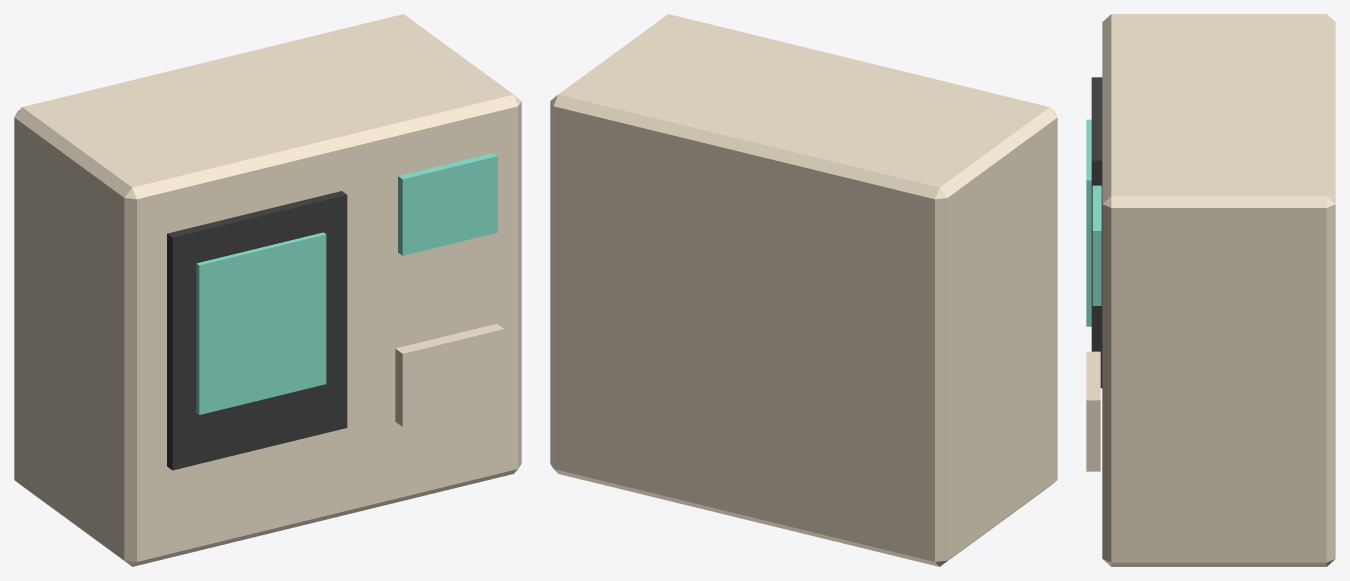
The picture shows the model from 3 angles, left to right: view 1: azimuth 30°, elevation 25°; view 2: azimuth 150°, elevation 25°; view 3: azimuth 270°, elevation 25°; orthographic projection. The views are drawn at different scales.
Visible parts, largest first — view 1: Analysis cabinet, Sample chamber, Chamber window, Sample drawer, Readout; view 2: Analysis cabinet; view 3: Analysis cabinet, Sample chamber, Sample drawer, Chamber window, Readout.
Part boxes in pixels (x1,y1,x2,y2): Analysis cabinet: (14, 14, 521, 566); Sample chamber: (167, 191, 347, 470); Chamber window: (196, 232, 326, 414); Sample drawer: (395, 323, 504, 426); Readout: (398, 152, 497, 255); Analysis cabinet: (550, 14, 1057, 566); Analysis cabinet: (1102, 14, 1335, 566); Sample chamber: (1091, 77, 1102, 388); Sample drawer: (1086, 351, 1100, 471); Chamber window: (1086, 119, 1091, 326); Readout: (1092, 185, 1101, 305).
Size of the model in its own units: 1.25 by 1.14 by 0.695.
1 material, 1 textured.
